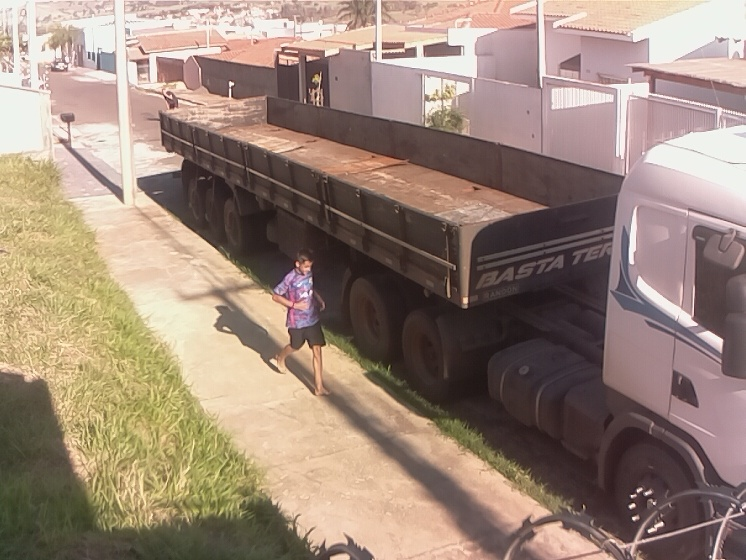person: (270, 247, 333, 399), (160, 85, 180, 113)
